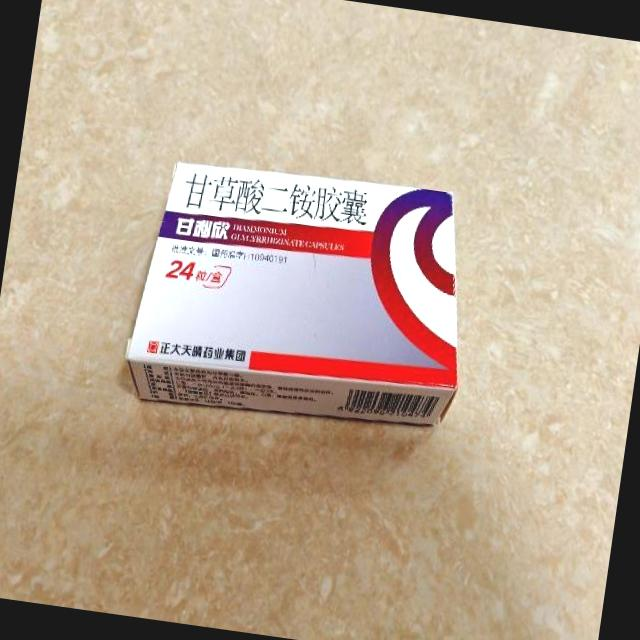box: (122, 148, 485, 442)
